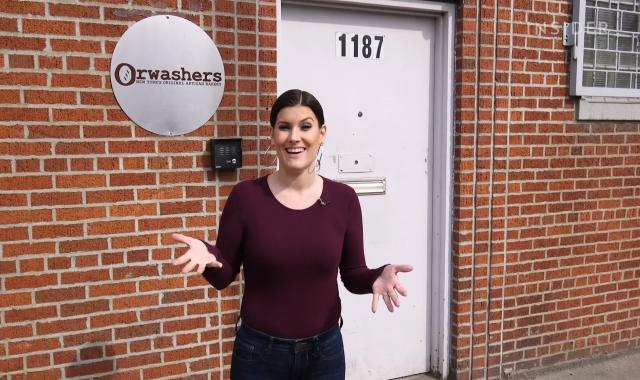no_hairnet: (268, 86, 328, 172)
